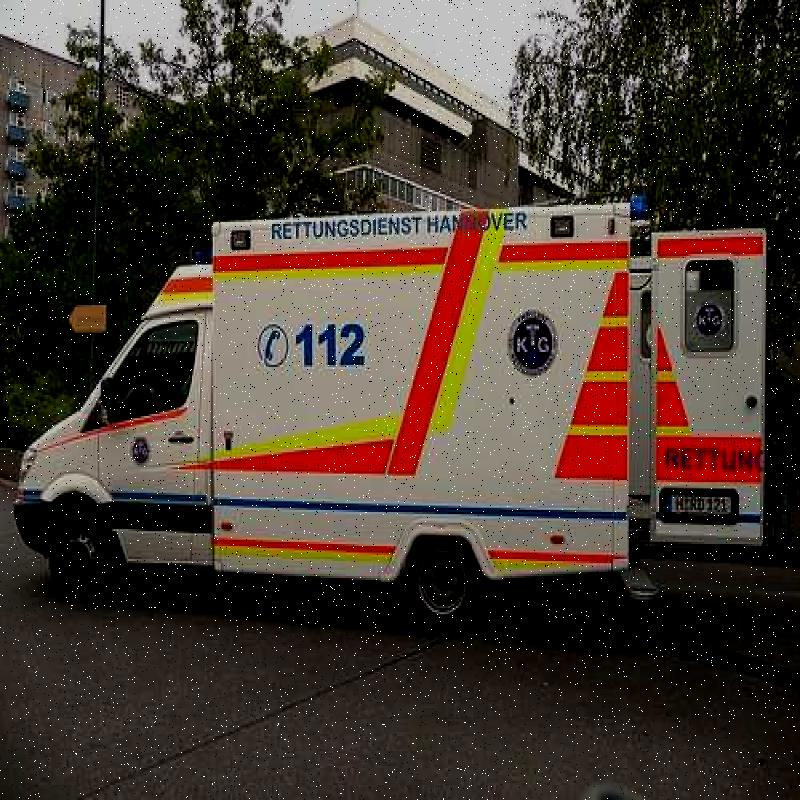AmbulanceSiren: (626, 192, 658, 231)
